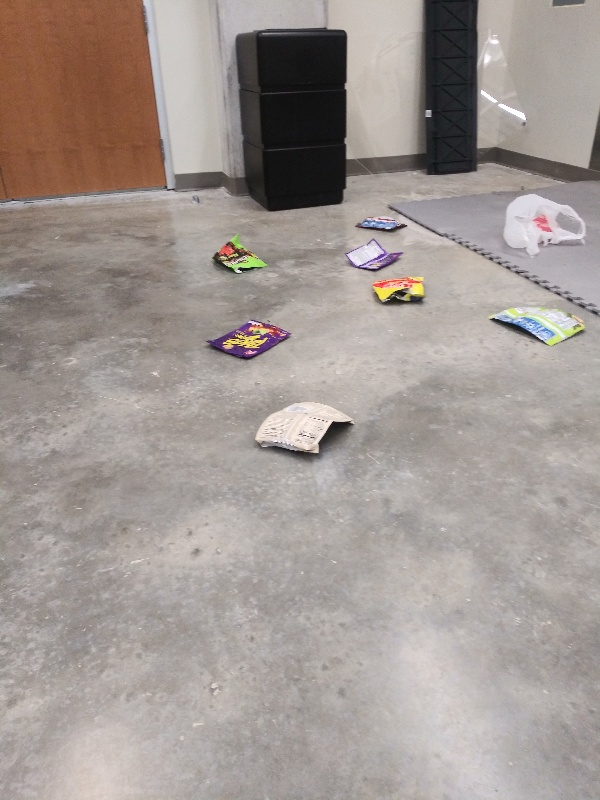bag: (251, 396, 358, 460), (486, 303, 589, 349), (201, 316, 297, 363), (209, 230, 275, 278), (340, 238, 407, 273), (369, 273, 429, 306), (351, 213, 410, 235)
